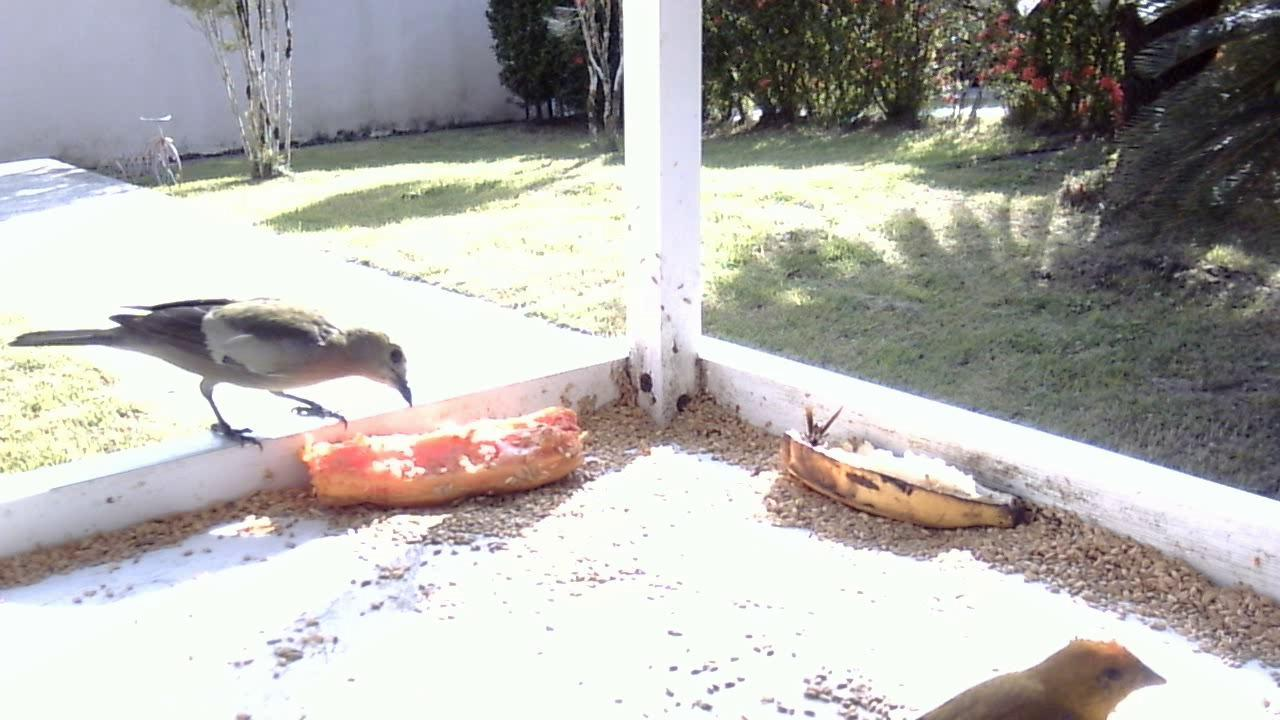canario_do_amazonas: (901, 628, 1168, 720)
sanhaco_do_coqueiro: (6, 285, 416, 467)
